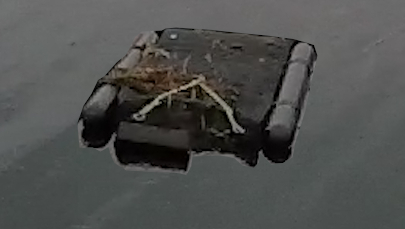bag: (75, 25, 322, 177)
